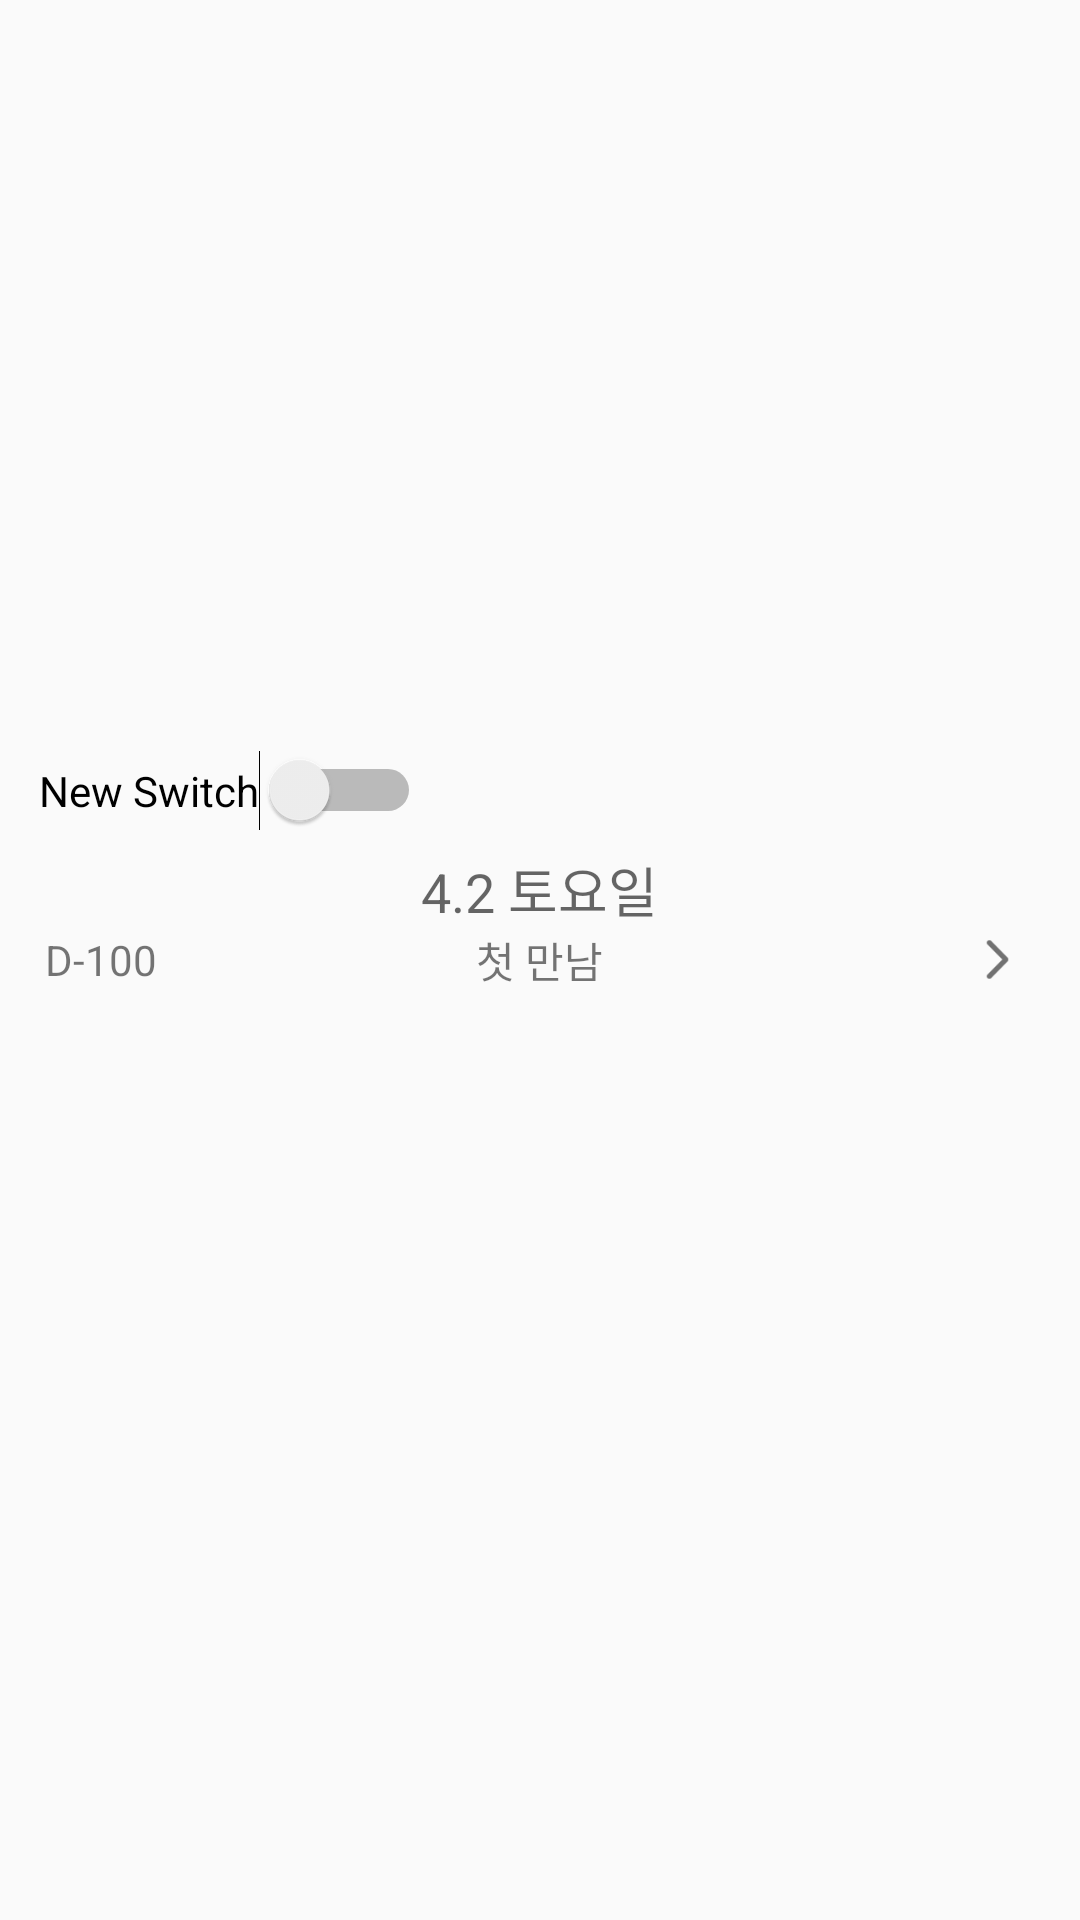

Screen size 1080px×1920px. Icon name, then its box in pixels as (x1, y1, x2, y2):
arrow: (986, 940, 1009, 979)
